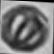correct: (0, 1, 53, 54)
